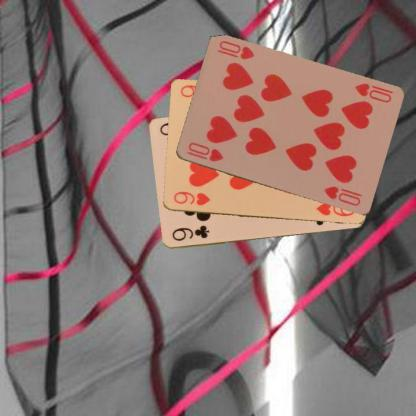10h: (352, 80, 392, 104), (183, 140, 224, 163)
9c: (169, 223, 211, 243)
9h: (171, 189, 211, 207)
